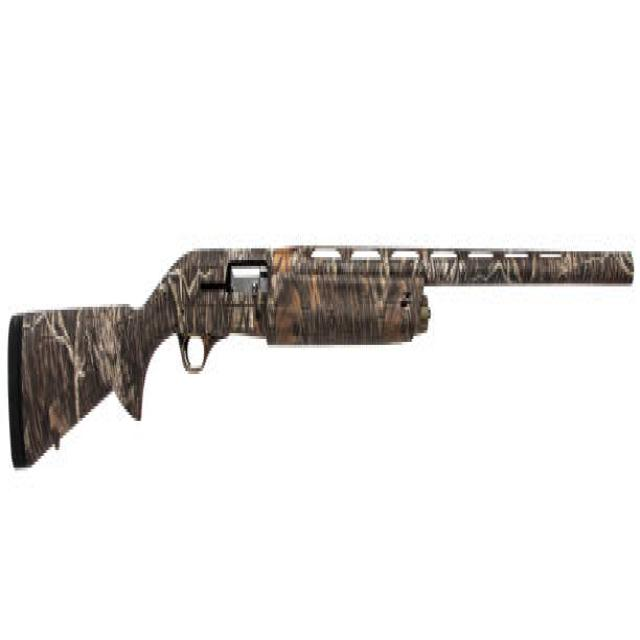rifle: (3, 219, 638, 490)
